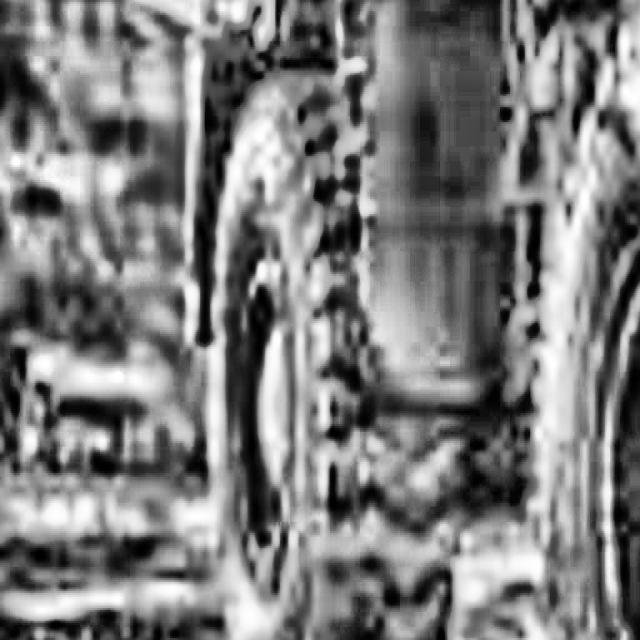dump_truck: (155, 0, 640, 640)
